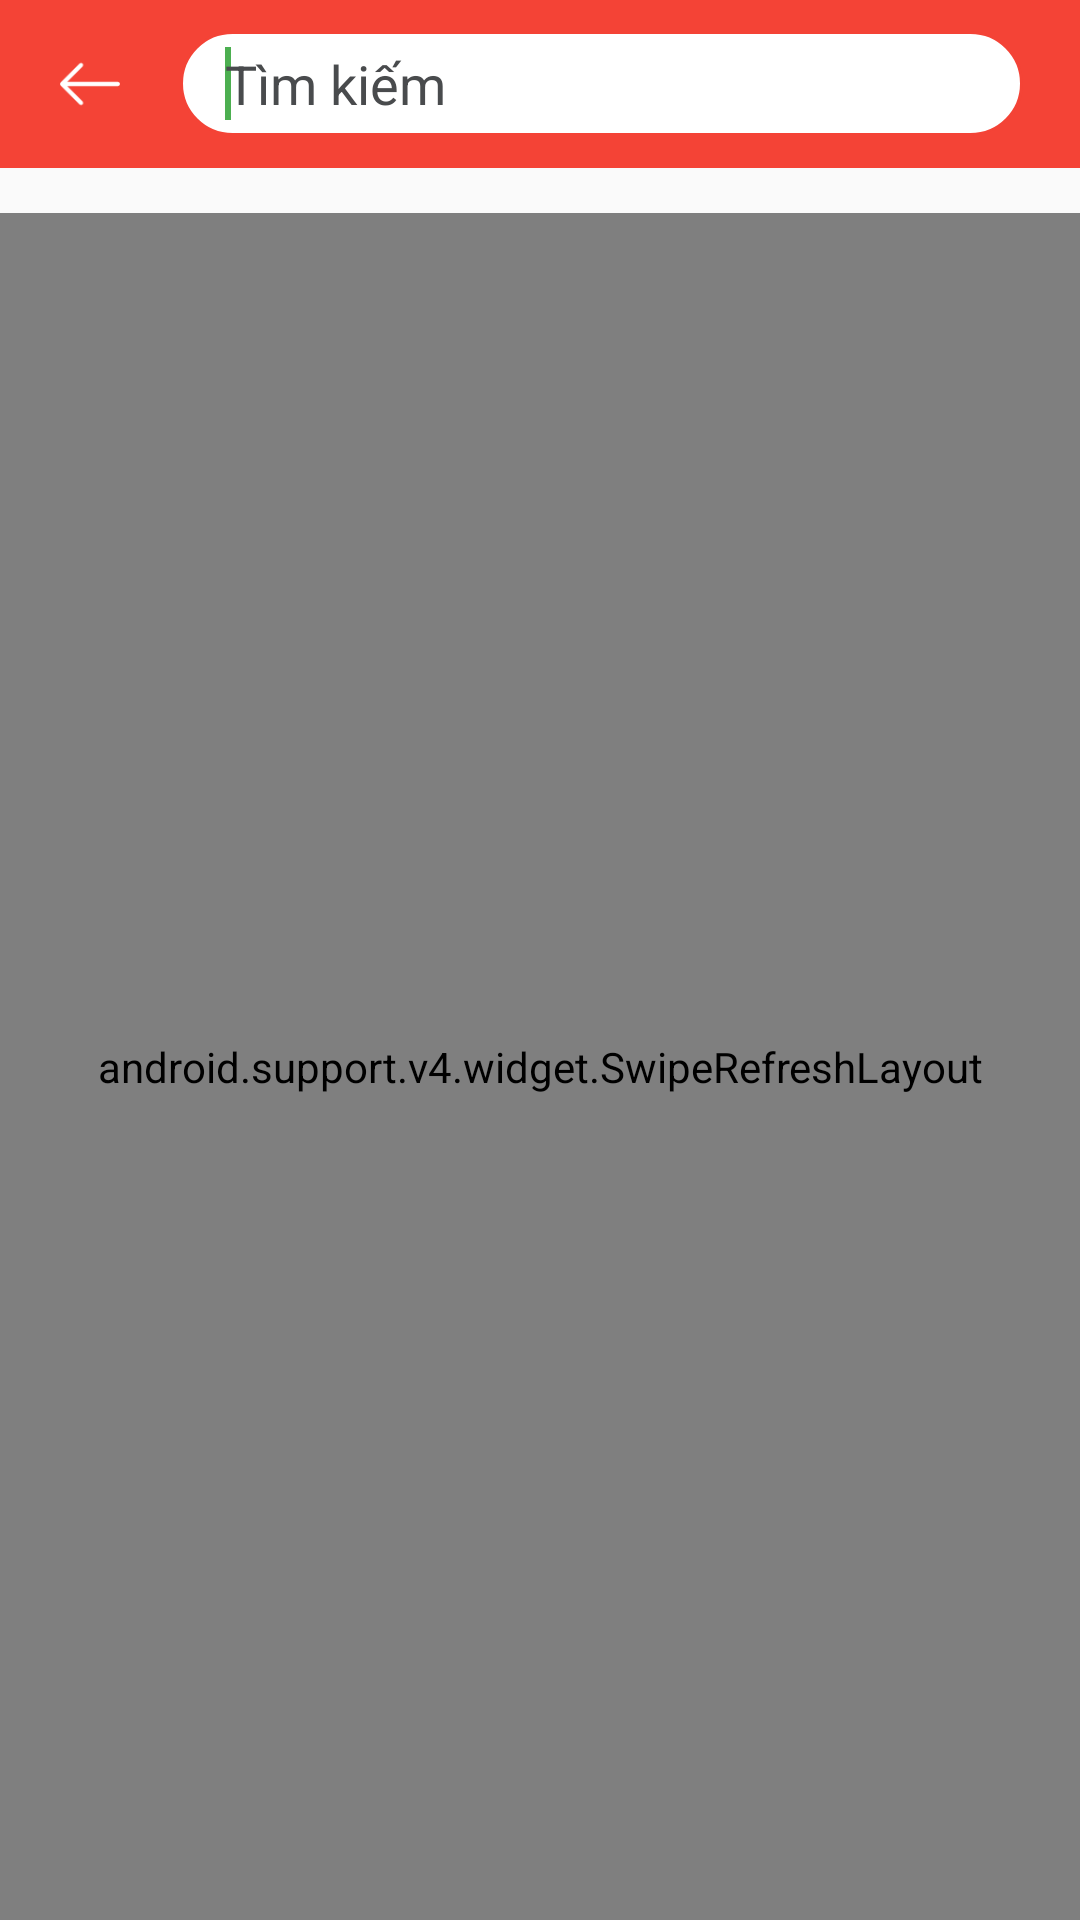

Screen size 1080*1920. Icon name, then its box in pixels as box(x1, y1, x2, y2):
back toobar: box(60, 62, 120, 106)
